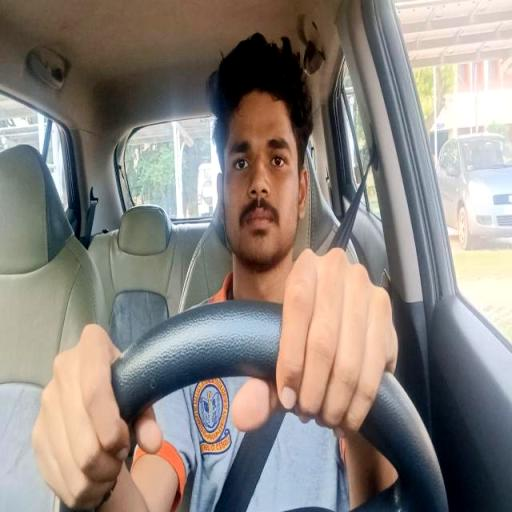Normal: (138, 40, 385, 427)
